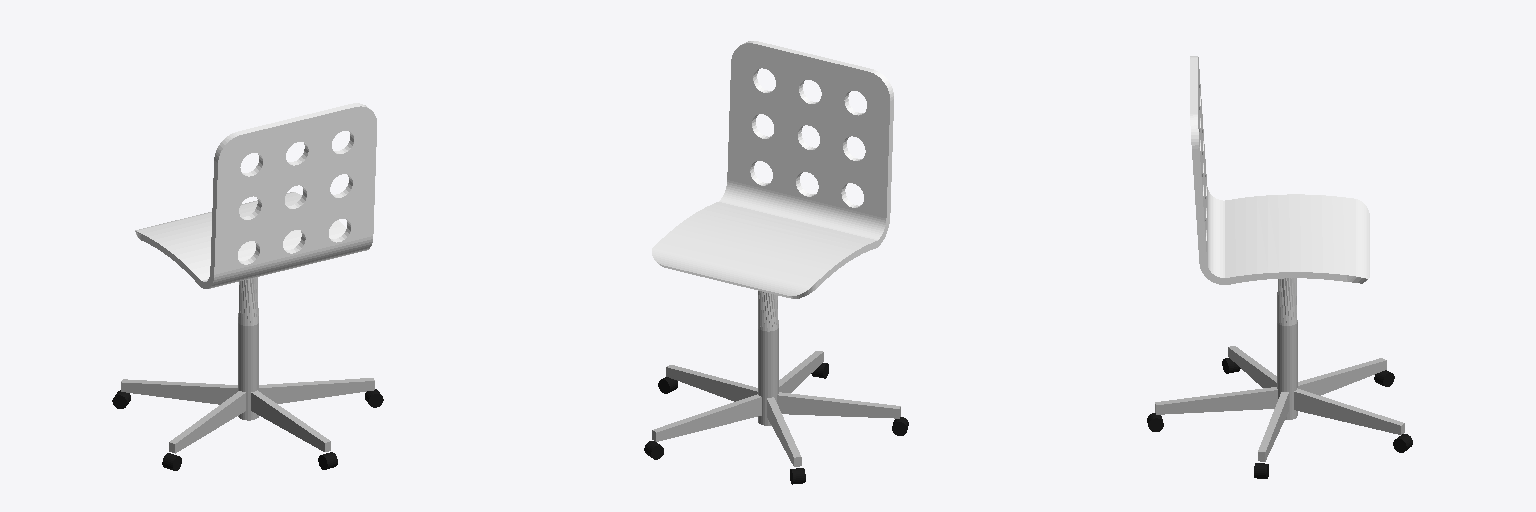
The picture shows the model from 3 angles: view 1: azimuth 30°, elevation 25°; view 2: azimuth 150°, elevation 25°; view 3: azimuth 270°, elevation 25°; orthographic projection.
Parts seen in each view (by area): view 1: Mesh1 Group2 Group1 Model, Mesh12 Group3 ske3F1 Group1 Model, Mesh3 Group4 Group3 ske3F1 Group1 Model, Mesh5 Group5 Group3 ske3F1 Group1 Model, Mesh9 Group7 Group3 ske3F1 Group1 Model, Mesh7 Group6 Group3 ske3F1 Group1 Model; view 2: Mesh1 Group2 Group1 Model, Mesh12 Group3 ske3F1 Group1 Model, Mesh7 Group6 Group3 ske3F1 Group1 Model, Mesh11 Group8 Group3 ske3F1 Group1 Model, Mesh5 Group5 Group3 ske3F1 Group1 Model, Mesh3 Group4 Group3 ske3F1 Group1 Model, Mesh9 Group7 Group3 ske3F1 Group1 Model; view 3: Mesh1 Group2 Group1 Model, Mesh12 Group3 ske3F1 Group1 Model, Mesh9 Group7 Group3 ske3F1 Group1 Model, Mesh11 Group8 Group3 ske3F1 Group1 Model, Mesh3 Group4 Group3 ske3F1 Group1 Model, Mesh5 Group5 Group3 ske3F1 Group1 Model, Mesh7 Group6 Group3 ske3F1 Group1 Model.
Boxes of the visible parts, x1,y1,x2,y2 form: Mesh1 Group2 Group1 Model: [135, 103, 376, 288]; Mesh12 Group3 ske3F1 Group1 Model: [238, 277, 258, 420]; Mesh3 Group4 Group3 ske3F1 Group1 Model: [121, 379, 237, 404]; Mesh5 Group5 Group3 ske3F1 Group1 Model: [259, 378, 374, 403]; Mesh9 Group7 Group3 ske3F1 Group1 Model: [251, 390, 330, 451]; Mesh7 Group6 Group3 ske3F1 Group1 Model: [169, 391, 245, 453]; Mesh1 Group2 Group1 Model: [652, 41, 893, 298]; Mesh12 Group3 ske3F1 Group1 Model: [758, 291, 778, 425]; Mesh7 Group6 Group3 ske3F1 Group1 Model: [777, 392, 900, 418]; Mesh11 Group8 Group3 ske3F1 Group1 Model: [652, 394, 761, 441]; Mesh5 Group5 Group3 ske3F1 Group1 Model: [666, 365, 757, 401]; Mesh3 Group4 Group3 ske3F1 Group1 Model: [767, 397, 801, 466]; Mesh9 Group7 Group3 ske3F1 Group1 Model: [779, 351, 823, 392]; Mesh1 Group2 Group1 Model: [1190, 56, 1369, 284]; Mesh12 Group3 ske3F1 Group1 Model: [1277, 278, 1297, 419]; Mesh9 Group7 Group3 ske3F1 Group1 Model: [1155, 387, 1277, 414]; Mesh11 Group8 Group3 ske3F1 Group1 Model: [1294, 388, 1404, 434]; Mesh3 Group4 Group3 ske3F1 Group1 Model: [1298, 358, 1386, 395]; Mesh5 Group5 Group3 ske3F1 Group1 Model: [1258, 392, 1288, 461]; Mesh7 Group6 Group3 ske3F1 Group1 Model: [1228, 346, 1276, 387].
Size of the model in its own units: 0.5473 by 0.7579 by 0.5408.